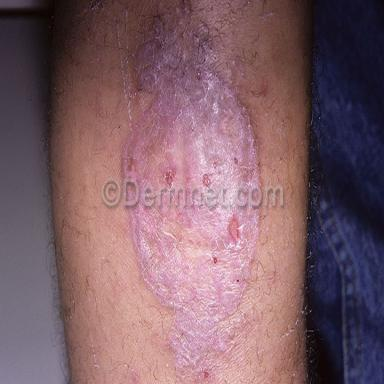lichen: (124, 5, 263, 189), (131, 200, 258, 381)
